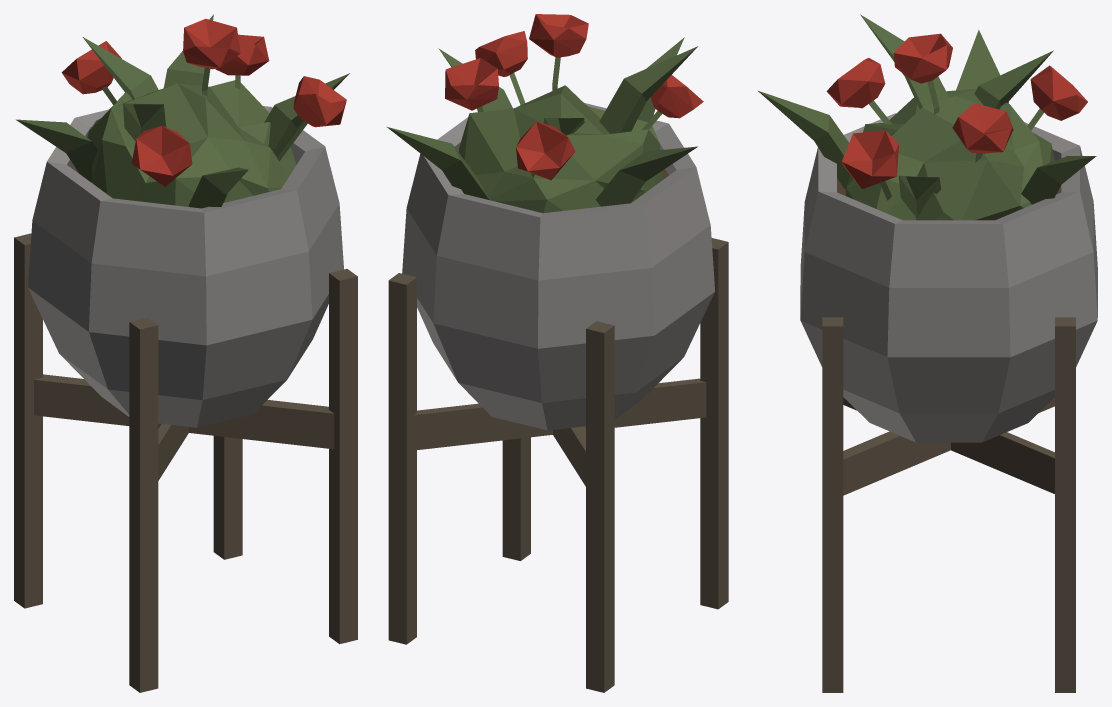
Rendered from SM_Props_Interior_Plant_Large_05.fbx.
3 renders of one model, left to right at view 1: azimuth 30°, elevation 25°; view 2: azimuth 150°, elevation 25°; view 3: azimuth 270°, elevation 25°, orthographic.
Visible parts, largest first — view 1: SM_Props_Interior_Plant_Large_05; view 2: SM_Props_Interior_Plant_Large_05; view 3: SM_Props_Interior_Plant_Large_05.
Boxes of the visible parts, <box> form: SM_Props_Interior_Plant_Large_05: <box>14,14,357,692</box>; SM_Props_Interior_Plant_Large_05: <box>387,14,728,692</box>; SM_Props_Interior_Plant_Large_05: <box>758,14,1097,692</box>.
Size of the model in its own units: 69.91 by 134 by 68.36.
